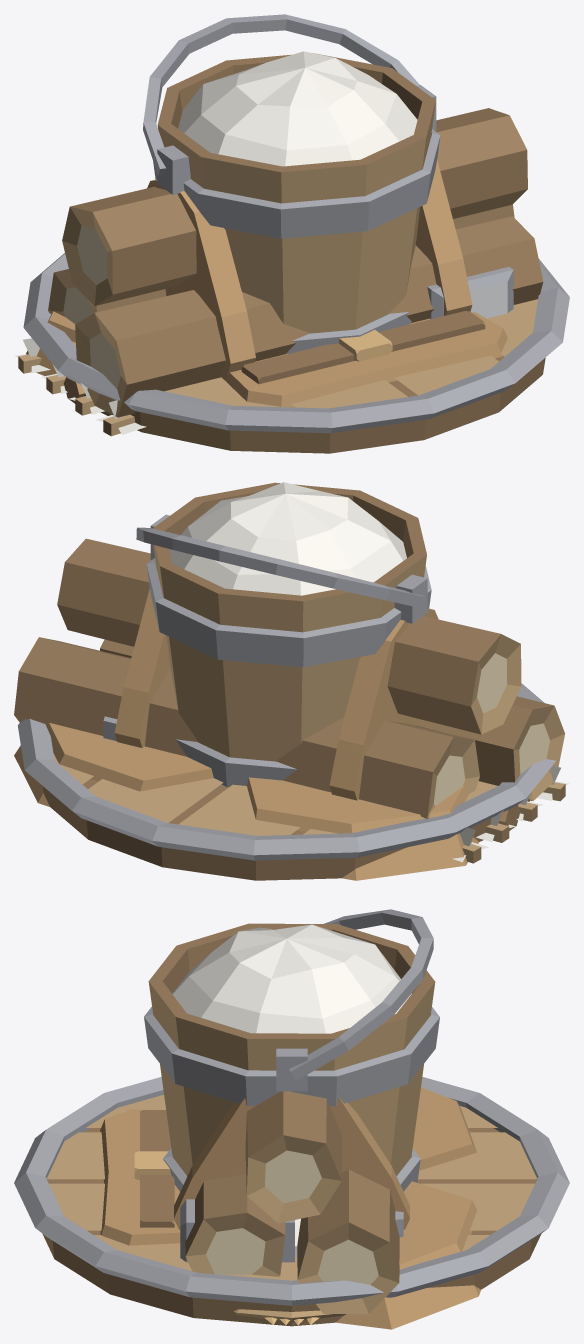
Rendered from items.glb.
The picture shows the model from 3 angles, top to bottom: view 1: azimuth 30°, elevation 25°; view 2: azimuth 150°, elevation 25°; view 3: azimuth 270°, elevation 25°; orthographic projection.
Parts seen in each view (by area): view 1: logs_Mesh, bucket_Mesh, wood_shield_Mesh, bucket_flour_Mesh, leather_body_Mesh, hammer_Mesh, arrows_Mesh; view 2: logs_Mesh, bucket_Mesh, wood_shield_Mesh, bucket_flour_Mesh, leather_body_Mesh, arrows_Mesh; view 3: wood_shield_Mesh, bucket_Mesh, logs_Mesh, leather_body_Mesh, bucket_flour_Mesh, hammer_Mesh, fishing_net_Mesh.
Part boxes in pixels (box(x1,y1,x2,y2)): logs_Mesh: box(48, 108, 543, 417); bucket_Mesh: box(143, 14, 440, 353); wood_shield_Mesh: box(23, 253, 569, 453); bucket_flour_Mesh: box(178, 51, 417, 166); leather_body_Mesh: box(26, 311, 507, 407); hammer_Mesh: box(427, 267, 513, 318); arrows_Mesh: box(14, 338, 146, 436); logs_Mesh: box(14, 538, 564, 818); bucket_Mesh: box(136, 482, 431, 787); wood_shield_Mesh: box(17, 683, 555, 880); bucket_flour_Mesh: box(169, 482, 406, 595); leather_body_Mesh: box(14, 723, 479, 880); arrows_Mesh: box(452, 766, 569, 863); wood_shield_Mesh: box(14, 1077, 569, 1326); bucket_Mesh: box(144, 909, 439, 1191); logs_Mesh: box(174, 1091, 409, 1314); leather_body_Mesh: box(100, 1087, 480, 1329); bucket_flour_Mesh: box(172, 924, 411, 1033); hammer_Mesh: box(180, 1199, 403, 1262); fishing_net_Mesh: box(234, 1309, 345, 1321).
Bounding box in the file's own units: 0.64 × 0.358 × 0.64.
